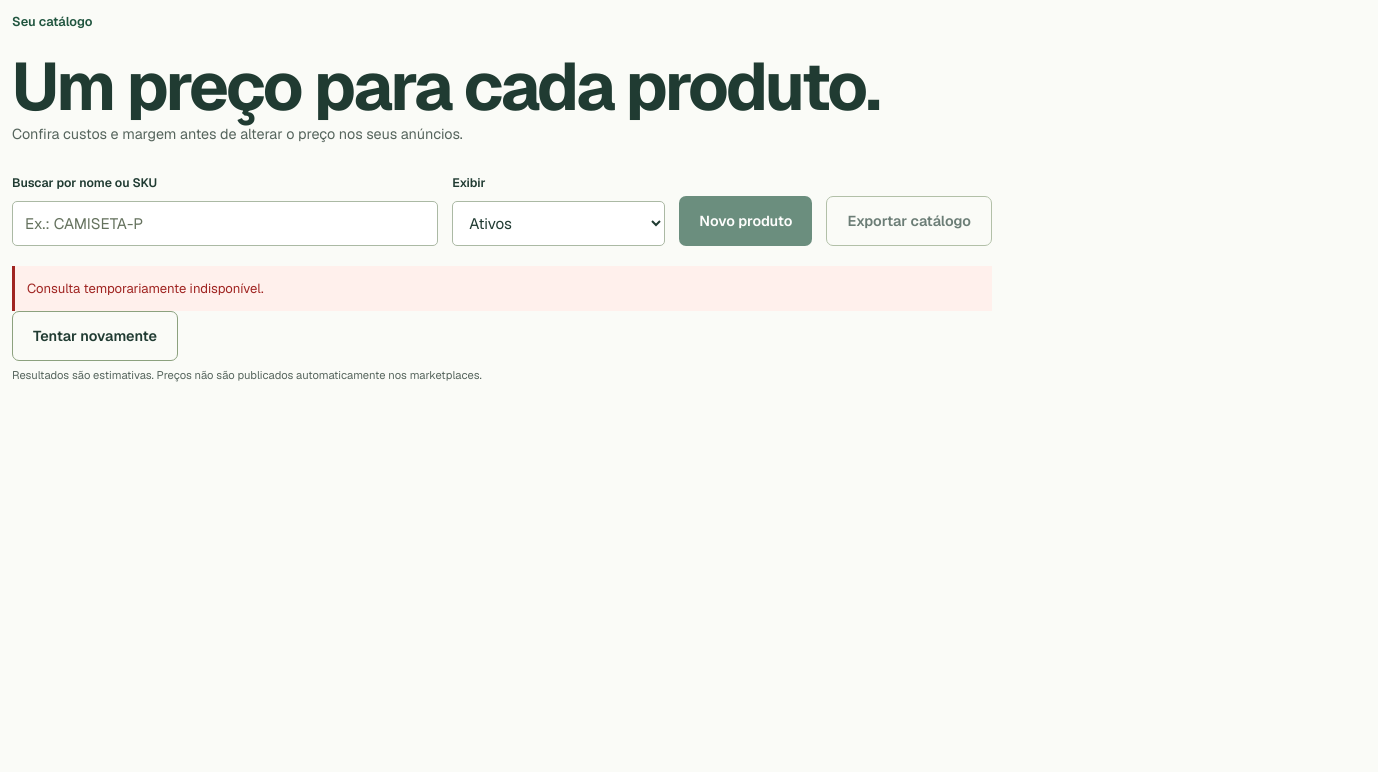
Test: ProductsClient › loadProducts_initialFailure_allowsRetryWithoutFalseEmptyState
This screenshot has width=1378, height=772.
Expected: the message reads "Consulta temporariamente indisponível.", 27,280 -> 264,297
Expected: the text "Comece com um produto." is not shown
Click the button "Tentar novamente".
click(95, 336)  # box 12,311 -> 178,361
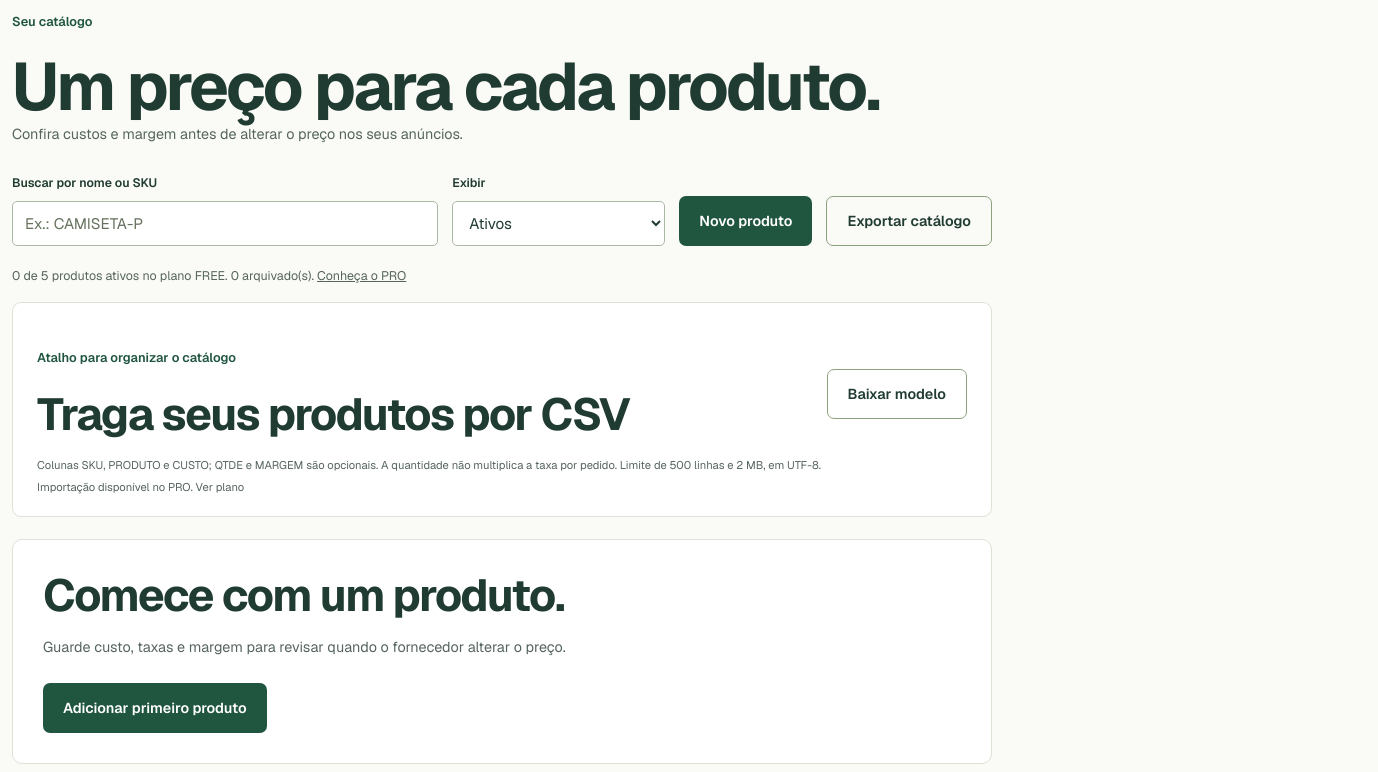
Expected: the heading "Comece com um produto." is shown, 43,566 -> 564,624
